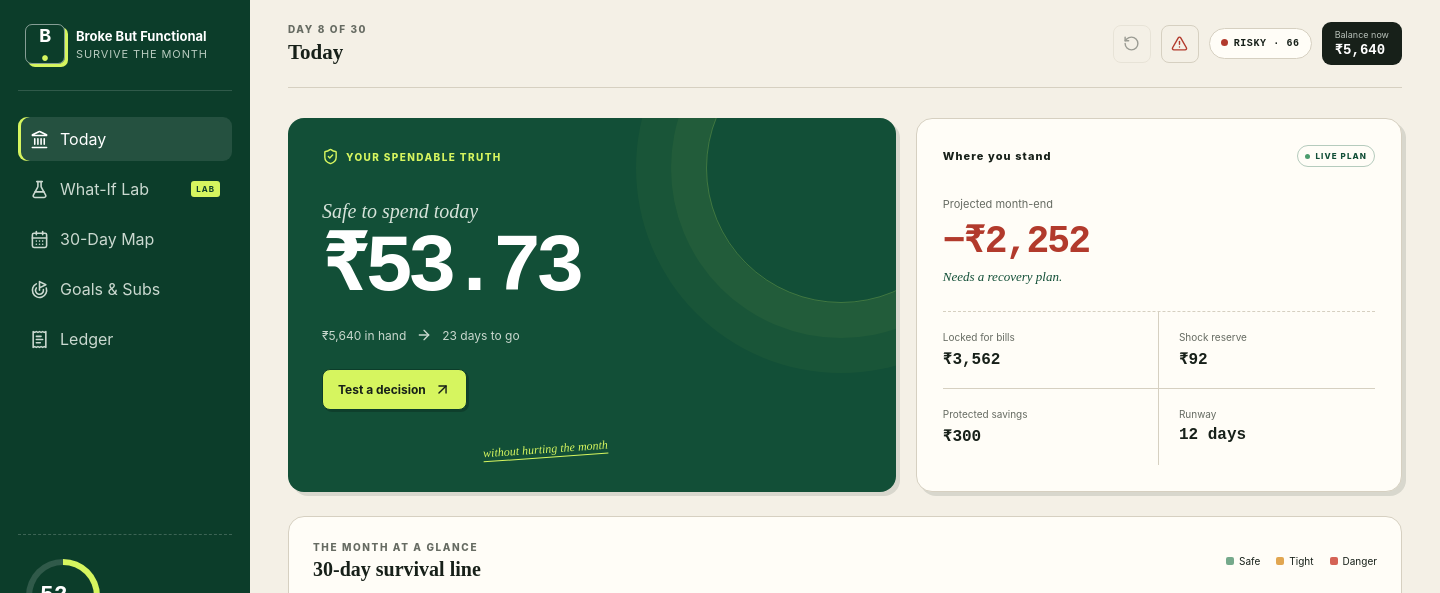
Test case: MoneyApp interactions › opens the unexpected-expense drill from the header
The width and height of the screenshot is (1440, 593).
Expected: the text "Safe to spend today" is shown, 322,200 -> 478,222
Click the button named "Run an unexpected expense shock drill" at (1180, 44), box 1161,24 -> 1199,62
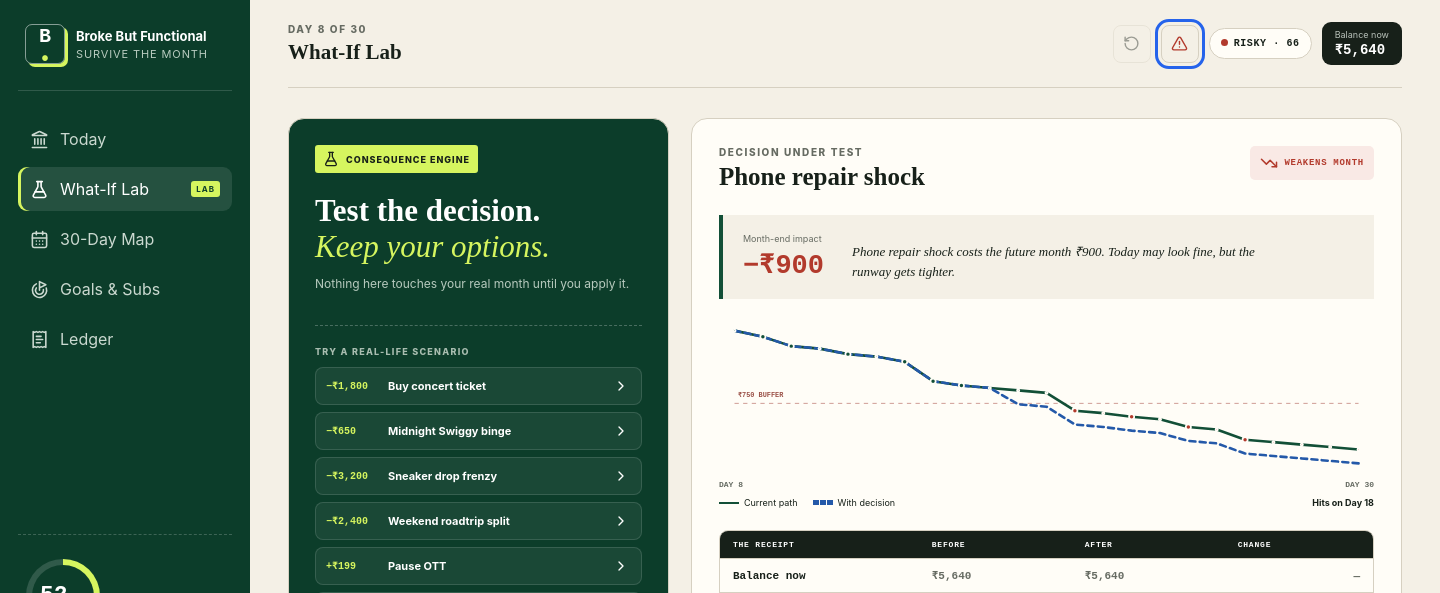
Now the text "WEAKENS MONTH" is shown, box 1250,146 -> 1374,180
